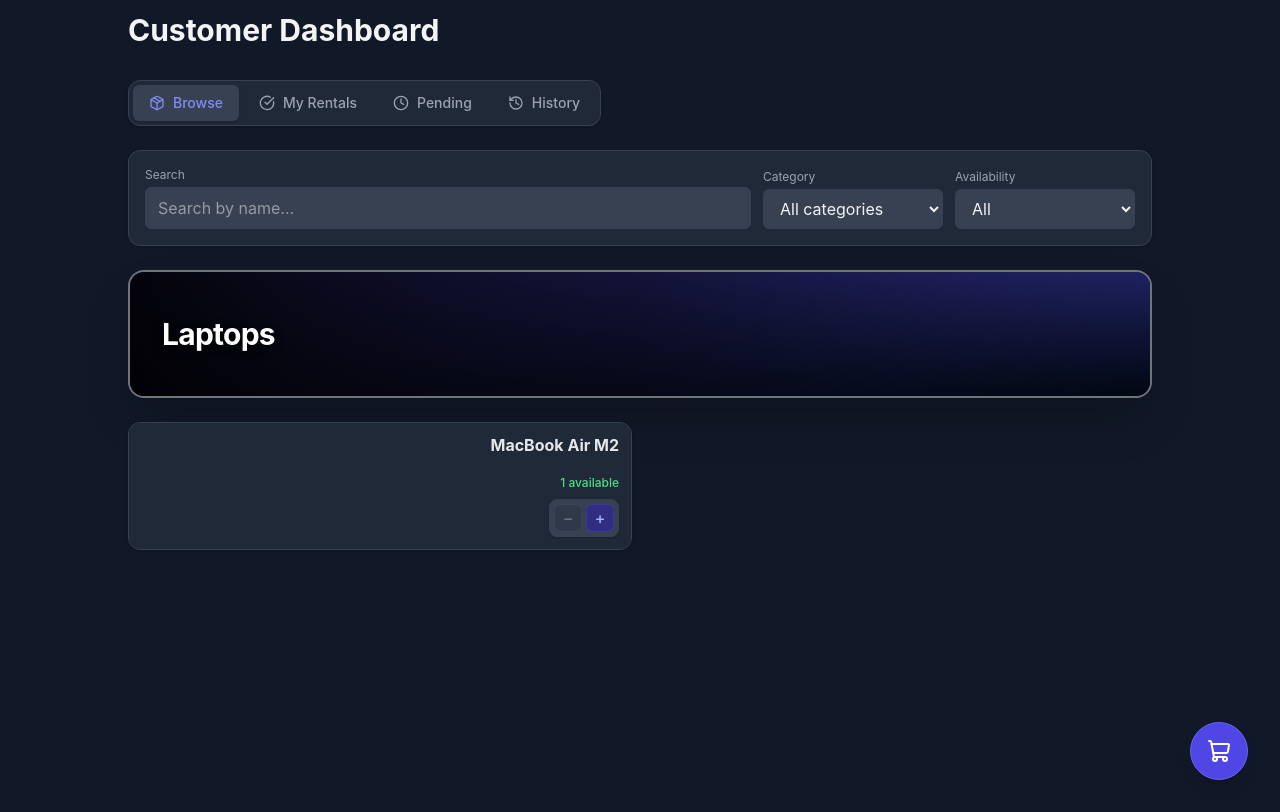
CustomerDashboard — tab switching › switching to "My Rentals" hides the catalogue and shows the rentals empty state
Click the button "My Rentals". click: (308, 103)
box: x1=243 y1=85 x2=373 y2=121
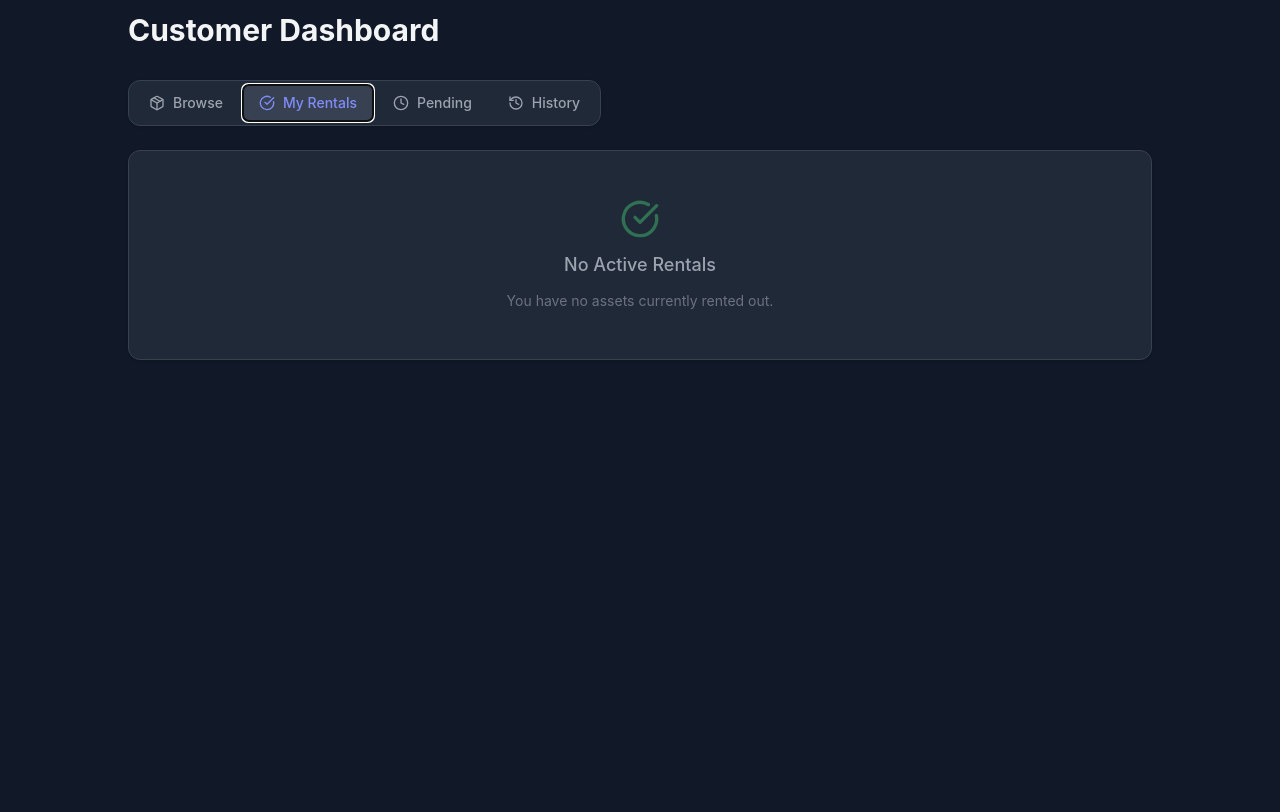
Now the heading "Laptops" is gone
Now the text "No Active Rentals" is shown, box x1=564 y1=251 x2=716 y2=279
